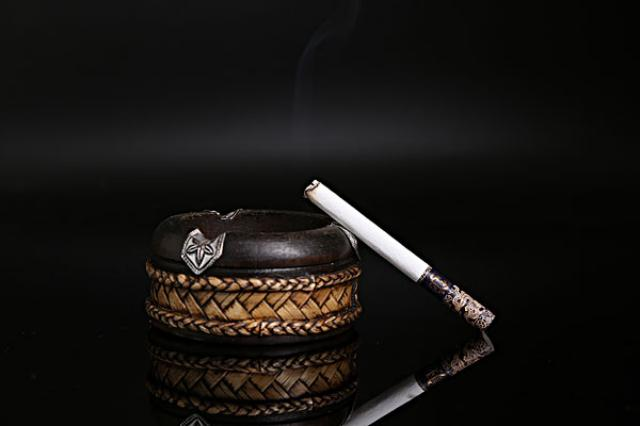Cigarette: (299, 173, 499, 333), (303, 335, 511, 425)
